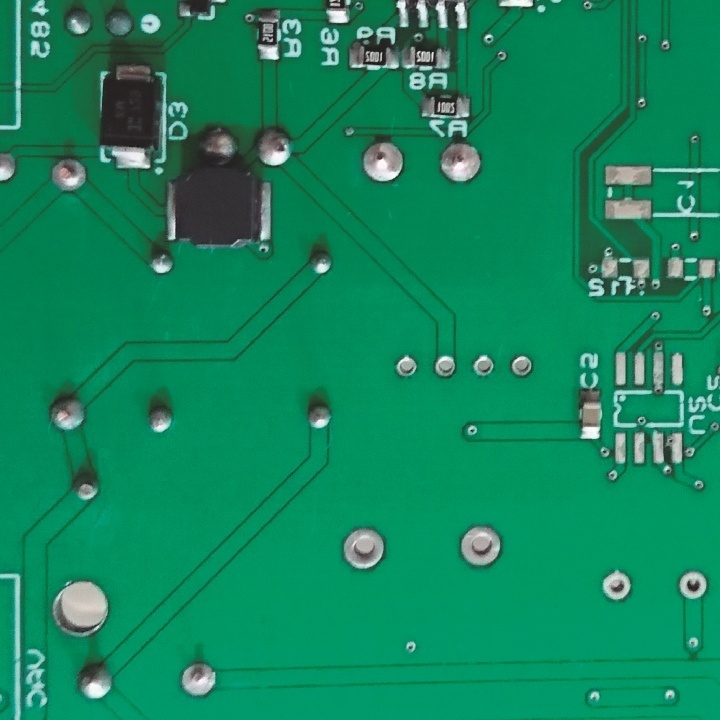F: (435, 139, 484, 188), (359, 138, 407, 186), (341, 525, 388, 574), (458, 523, 504, 571), (45, 156, 92, 192), (178, 660, 218, 701), (599, 566, 636, 605), (676, 567, 711, 602), (392, 352, 420, 381), (430, 355, 459, 382), (510, 349, 535, 380), (470, 351, 493, 382)
